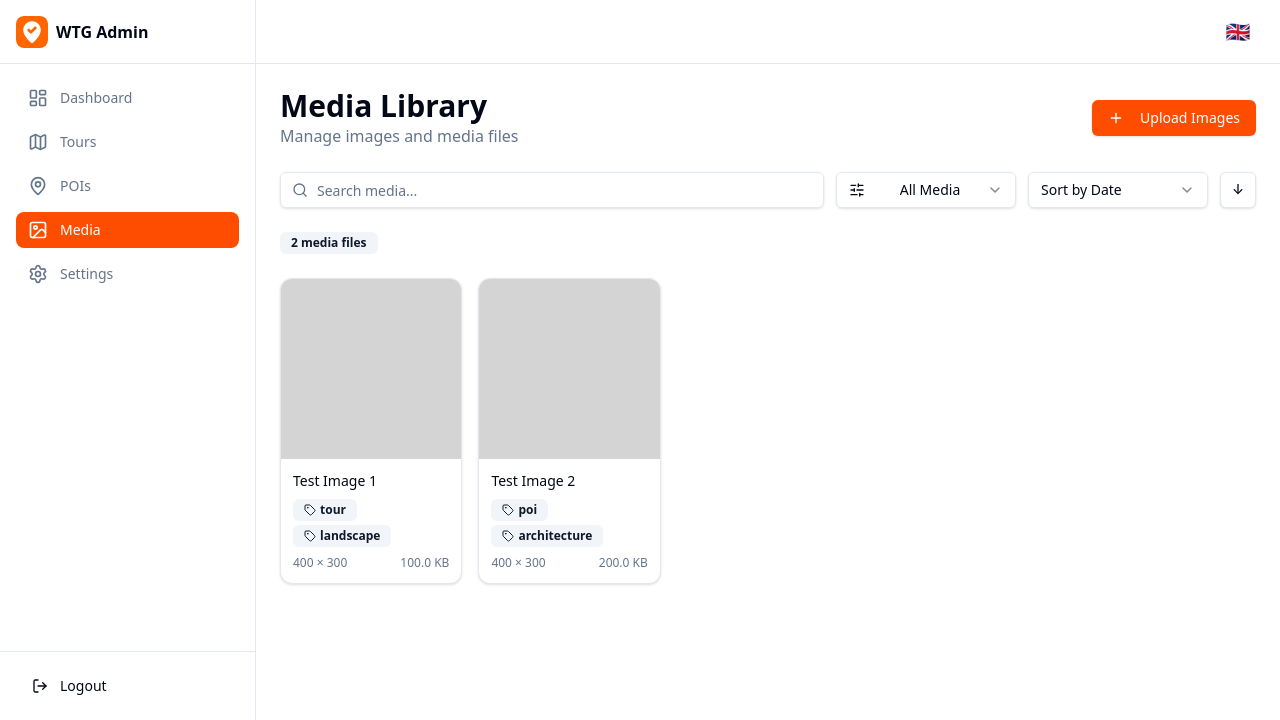
Scenario: Media Upload › Upload Dialog › should close upload dialog when clicking cancel
Click the button with test id "upload-button": (1174, 118) [1092,100,1256,136]
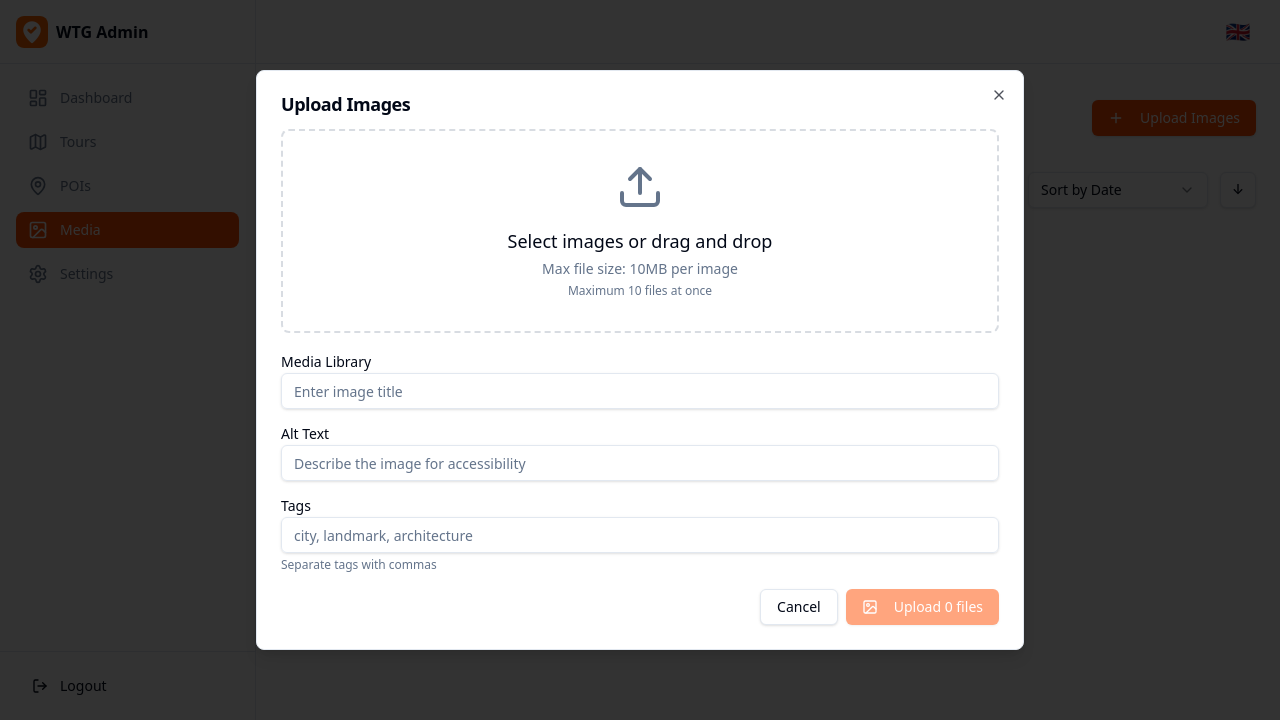
Check: the dialog with test id "upload-dialog" is shown, box [256,70,1024,650]
Click X close button in dialog header
Click the 1st button with class "absolute": (999, 95) [991,87,1007,103]
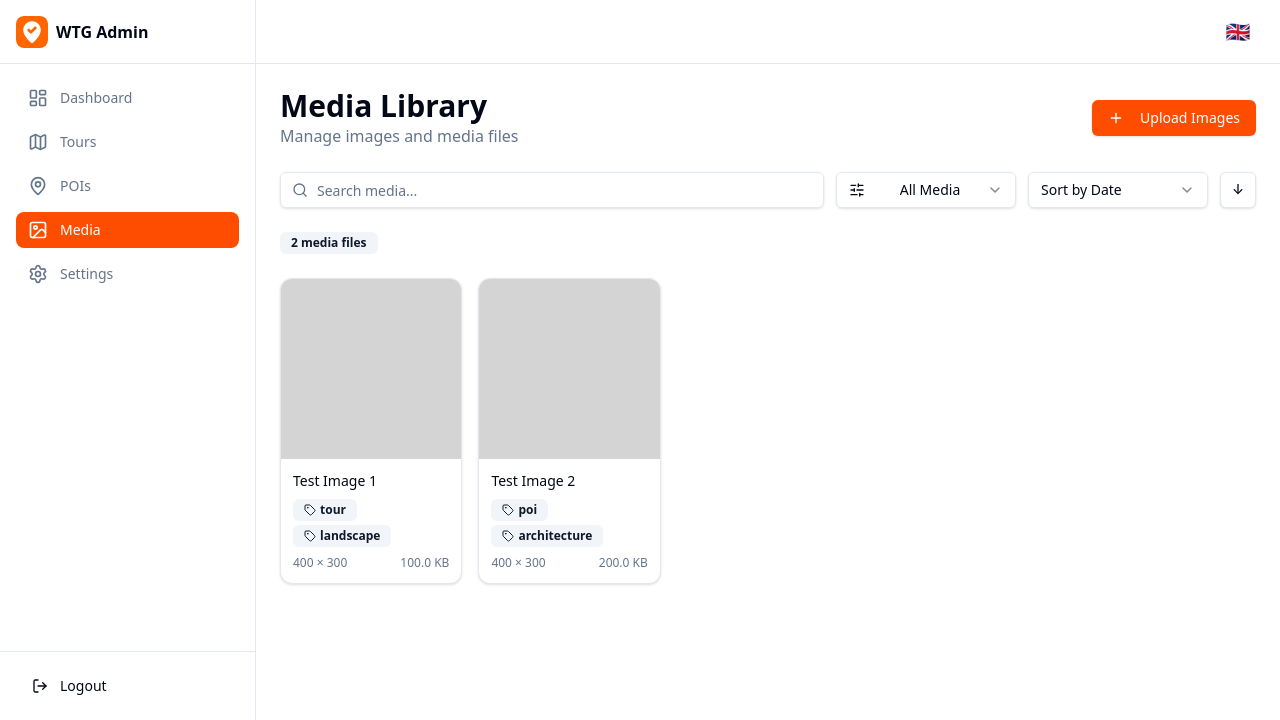
Check: the dialog with test id "upload-dialog" is gone
